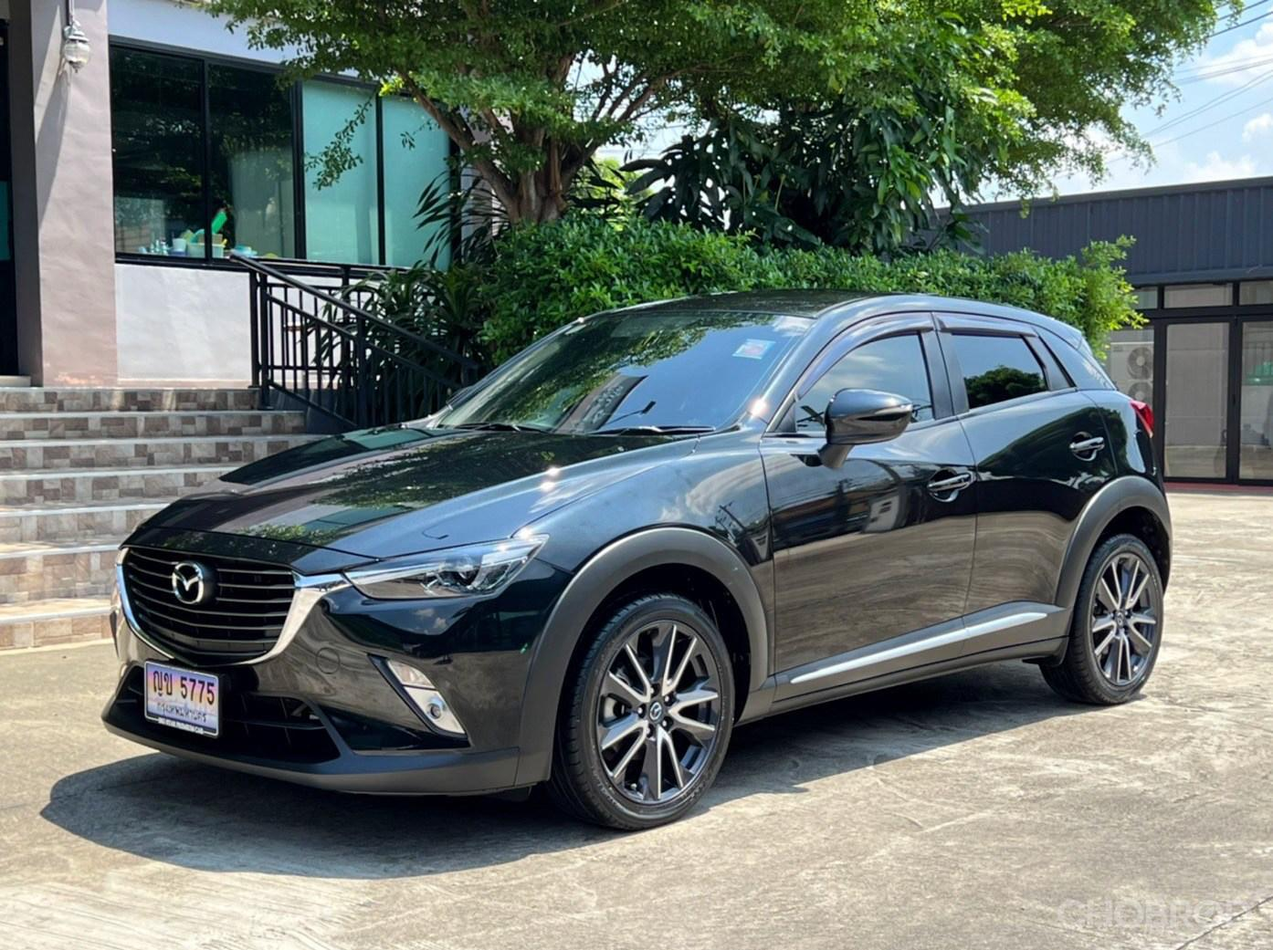license-plate: (141, 653, 225, 738)
